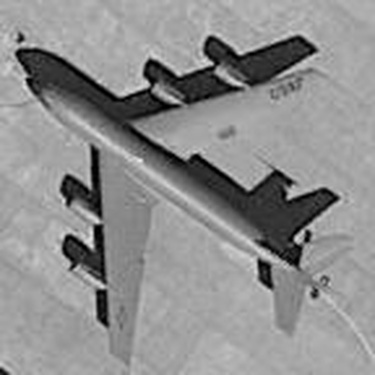airplane: (15, 35, 358, 371)
